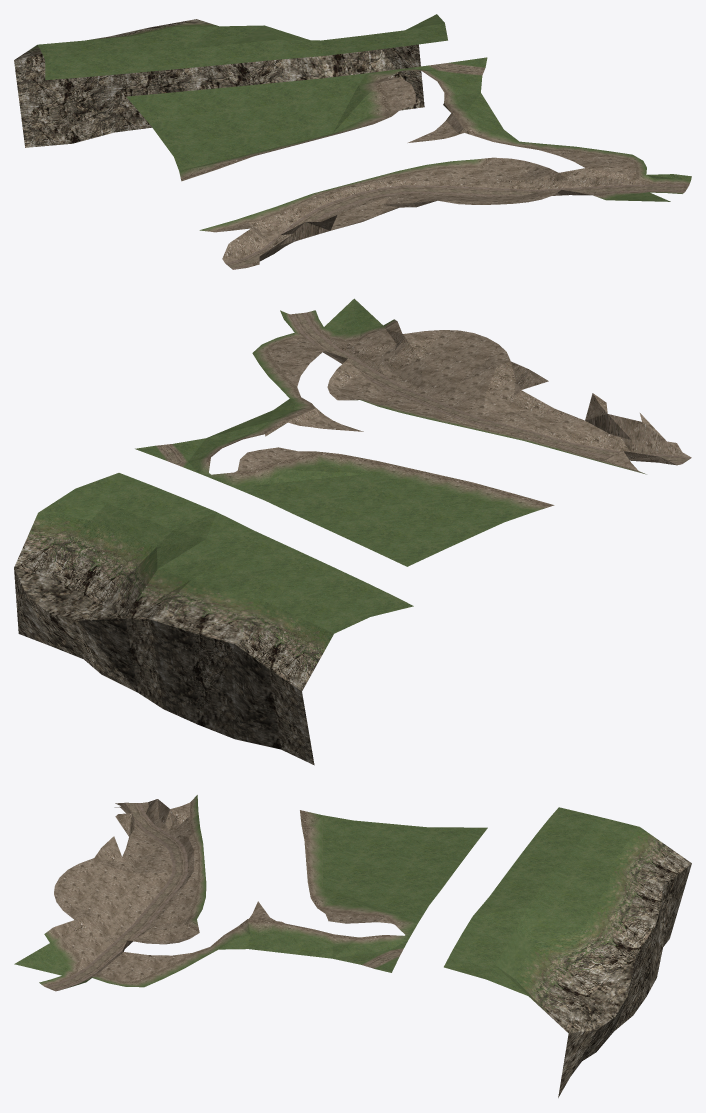
File: cegroundt205.obj
3 views of the same model, one above another, from view 1: azimuth 30°, elevation 25°; view 2: azimuth 150°, elevation 25°; view 3: azimuth 270°, elevation 25° (orthographic). The views are drawn at different scales.
Visible parts, largest first — view 1: CEgroundT205; view 2: CEgroundT205; view 3: CEgroundT205.
Part boxes in pixels (x1,y1,x2,y2): CEgroundT205: (14, 14, 691, 269); CEgroundT205: (14, 298, 691, 765); CEgroundT205: (14, 795, 691, 1097).
Bounding box in the file's own units: 186 × 58.24 × 267.
Materials: 7 (7 with a texture image).
